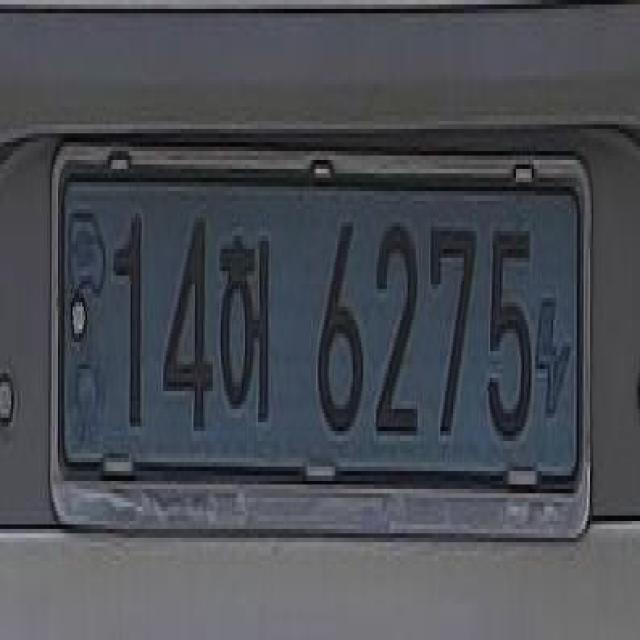EV_plate: (33, 119, 608, 556)
